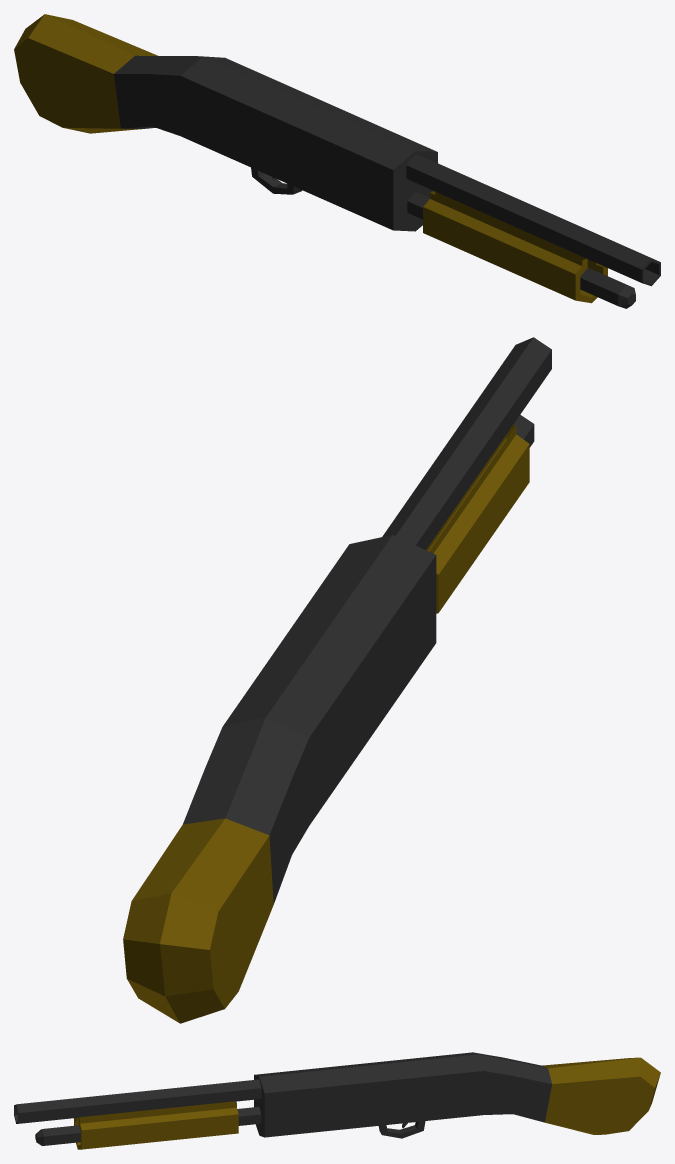
The model's file is bill's shotgun.fbx.
3 renders of one model, top to bottom at view 1: azimuth 30°, elevation 25°; view 2: azimuth 150°, elevation 25°; view 3: azimuth 270°, elevation 25°, orthographic. The views are drawn at different scales.
Visible parts, largest first — view 1: pasted__Shotgun1; view 2: pasted__Shotgun1; view 3: pasted__Shotgun1.
Boxes of the visible parts, x1,y1,x2,y2 form: pasted__Shotgun1: (14,14,660,308); pasted__Shotgun1: (123,337,551,1023); pasted__Shotgun1: (14,1052,660,1149).
Size of the model in its own units: 3.51 by 1.94 by 12.28.
